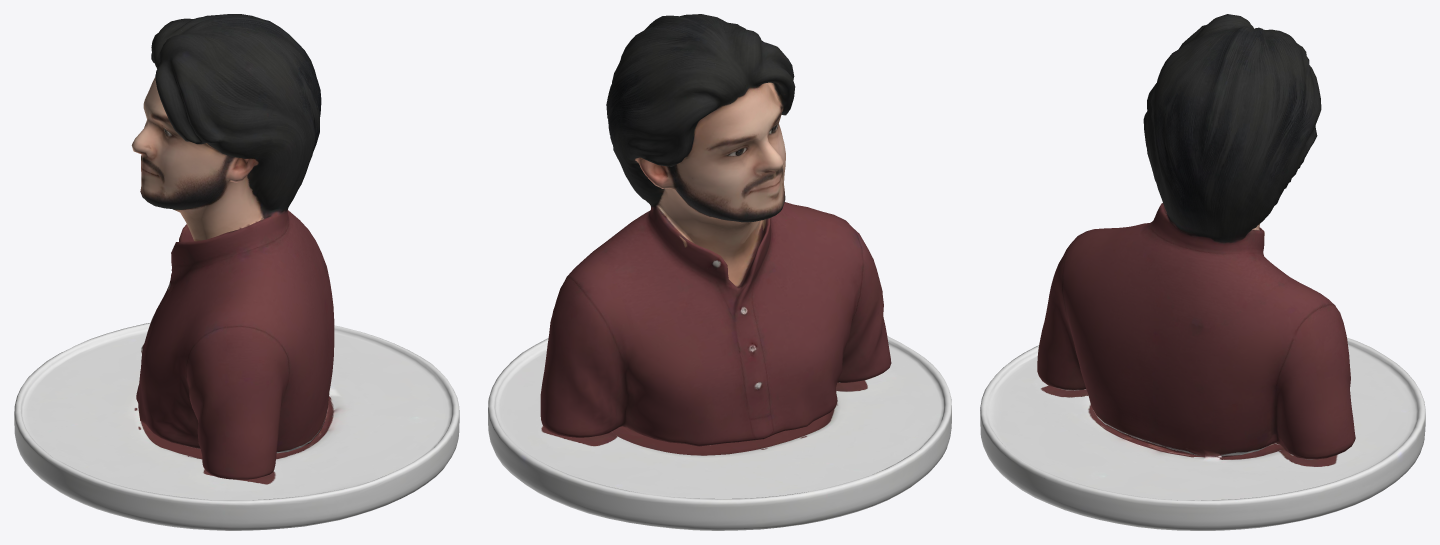
Rendered from akshay-cp.glb.
The picture shows the model from 3 angles, left to right: view 1: azimuth 30°, elevation 25°; view 2: azimuth 150°, elevation 25°; view 3: azimuth 270°, elevation 25°; orthographic projection. The views are drawn at different scales.
Parts seen in each view (by area): view 1: tripo_node_415cab02-8d75-4a72-8963-49ad67c993b0; view 2: tripo_node_415cab02-8d75-4a72-8963-49ad67c993b0; view 3: tripo_node_415cab02-8d75-4a72-8963-49ad67c993b0.
Boxes of the visible parts, <box> form: tripo_node_415cab02-8d75-4a72-8963-49ad67c993b0: <box>14,14,459,530</box>; tripo_node_415cab02-8d75-4a72-8963-49ad67c993b0: <box>488,14,951,530</box>; tripo_node_415cab02-8d75-4a72-8963-49ad67c993b0: <box>980,14,1425,530</box>.
Bounding box in the file's own units: 0.9838 × 0.9978 × 0.9843.
Materials: 1 (1 with a texture image).
